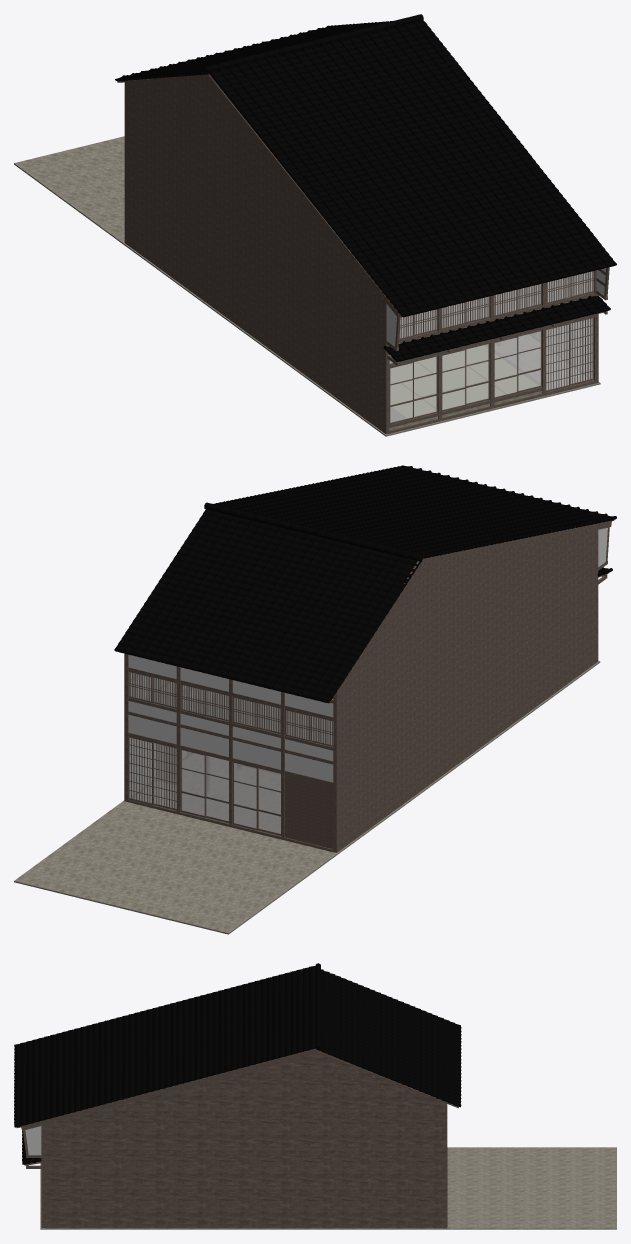
The model's file is kominka_machiya.fbx.
3 views of the same model, one above another, from view 1: azimuth 30°, elevation 25°; view 2: azimuth 150°, elevation 25°; view 3: azimuth 270°, elevation 25° (orthographic). The views are drawn at different scales.
Visible parts, largest first — view 1: KawaraMain, Wall, Base, Pillar, Tatami, UpperWindow, Kawara, Door, Door.001, Window.003, Window.002, Window.006 (+3 smaller); view 2: KawaraMain, Wall, Base, Pillar, UpperWindow, Door.003, Window.017, Window.015, Door.002, Window.014, Window.016; view 3: Wall, KawaraMain, Base, Pillar.
Boxes of the visible parts, left/top/right/bottom form: KawaraMain: left=115, top=14, right=616, bottom=317; Wall: left=124, top=72, right=589, bottom=432; Base: left=14, top=136, right=600, bottom=436; Pillar: left=117, top=74, right=609, bottom=434; Tatami: left=391, top=346, right=538, bottom=417; UpperWindow: left=399, top=271, right=594, bottom=340; Kawara: left=383, top=295, right=610, bottom=362; Door: left=546, top=323, right=570, bottom=392; Door.001: left=570, top=317, right=593, bottom=385; Window.003: left=389, top=361, right=413, bottom=424; Window.002: left=442, top=349, right=466, bottom=411; Window.006: left=494, top=336, right=518, bottom=398; KawaraMain: left=114, top=465, right=616, bottom=703; Wall: left=124, top=524, right=596, bottom=852; Base: left=14, top=661, right=600, bottom=934; Pillar: left=124, top=520, right=614, bottom=852; UpperWindow: left=128, top=671, right=333, bottom=746; Door.003: left=128, top=736, right=153, bottom=805; Window.017: left=180, top=749, right=205, bottom=817; Window.015: left=233, top=761, right=257, bottom=830; Door.002: left=154, top=742, right=176, bottom=810; Window.014: left=258, top=767, right=280, bottom=835; Window.016: left=206, top=755, right=228, bottom=822; Wall: left=44, top=969, right=446, bottom=1228; KawaraMain: left=14, top=963, right=461, bottom=1127; Base: left=40, top=1147, right=616, bottom=1229; Pillar: left=16, top=1049, right=458, bottom=1227.
Bounding box in the file's own units: 7.47 × 7.86 × 23.23.
